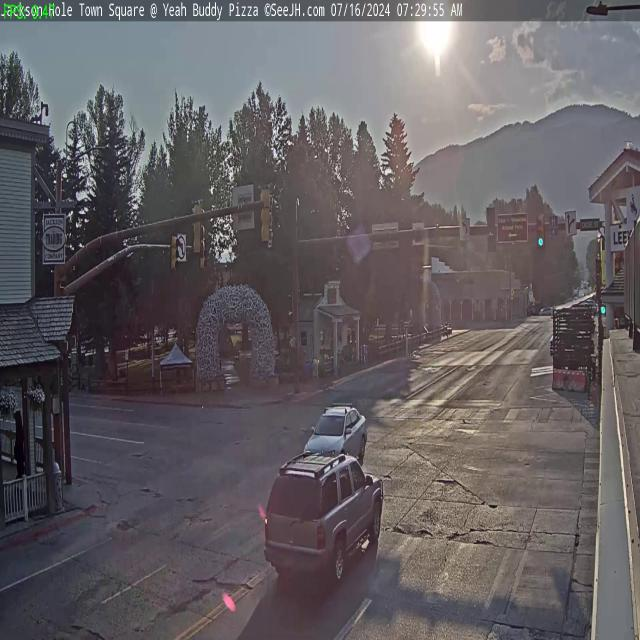sedan: (304, 400, 370, 464)
suv: (260, 450, 386, 596)
traffic light: (260, 184, 272, 245), (191, 200, 203, 256), (168, 230, 178, 278), (487, 207, 496, 252), (537, 214, 545, 248)
